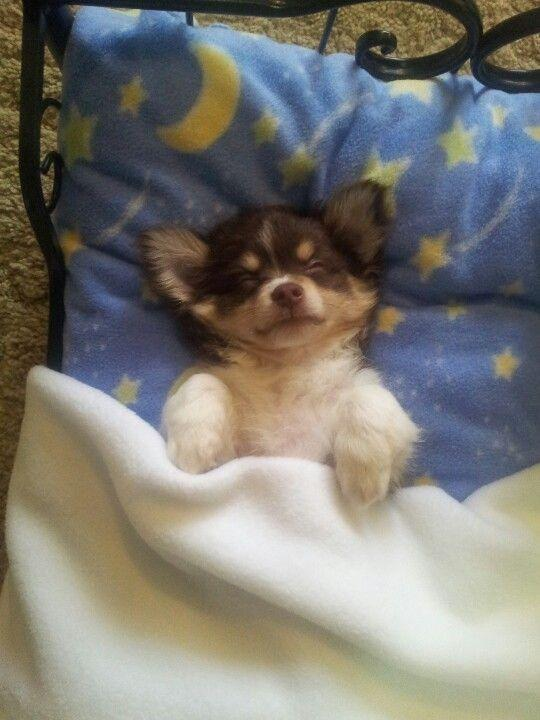puppy-dog: (134, 184, 420, 509)
